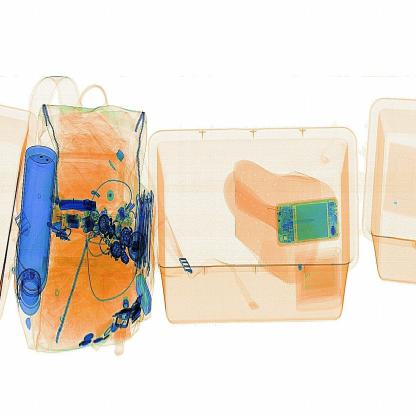knife: (51, 188, 100, 224)
